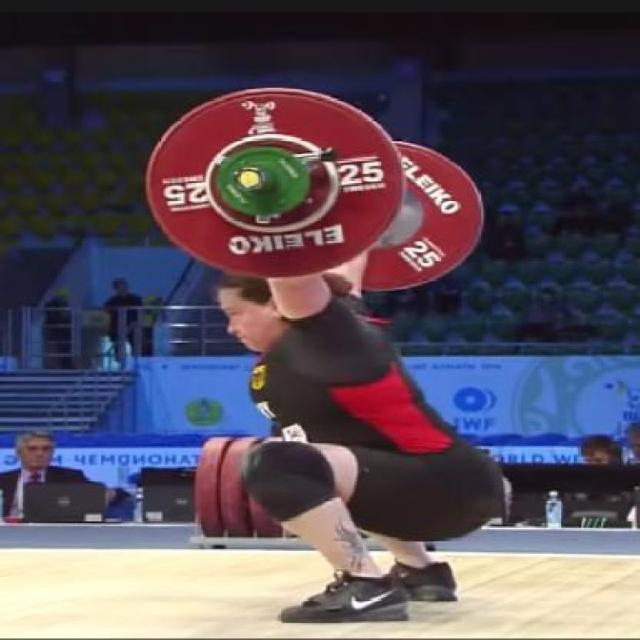barbell: (144, 78, 408, 283)
